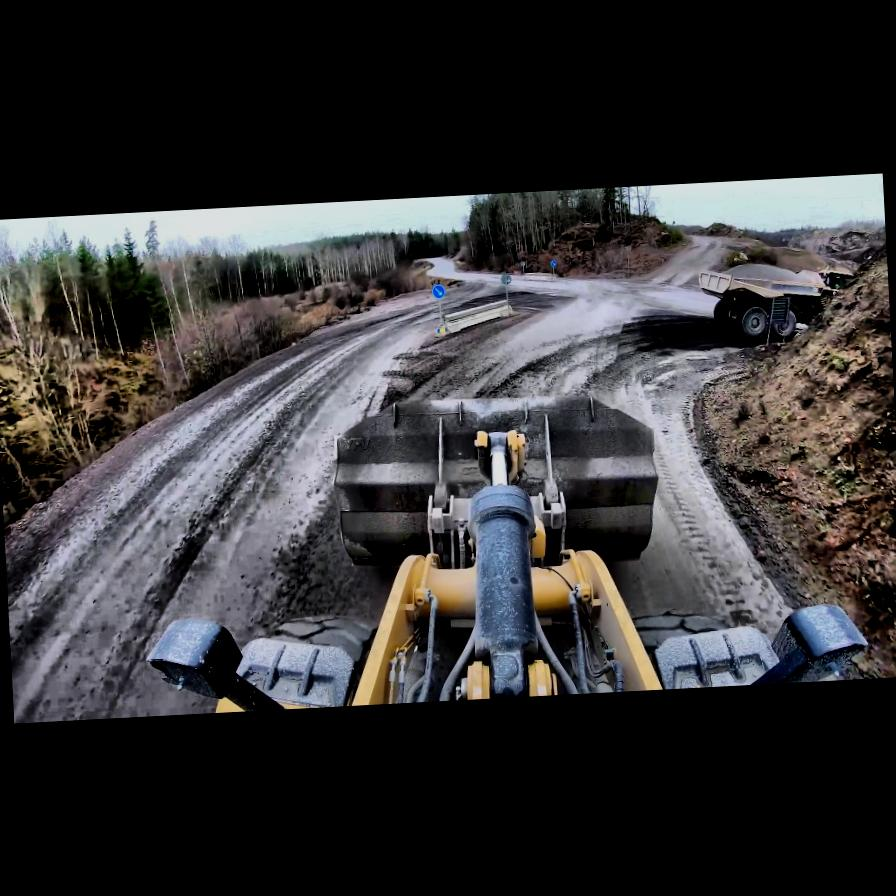anchor: (473, 427, 528, 486)
